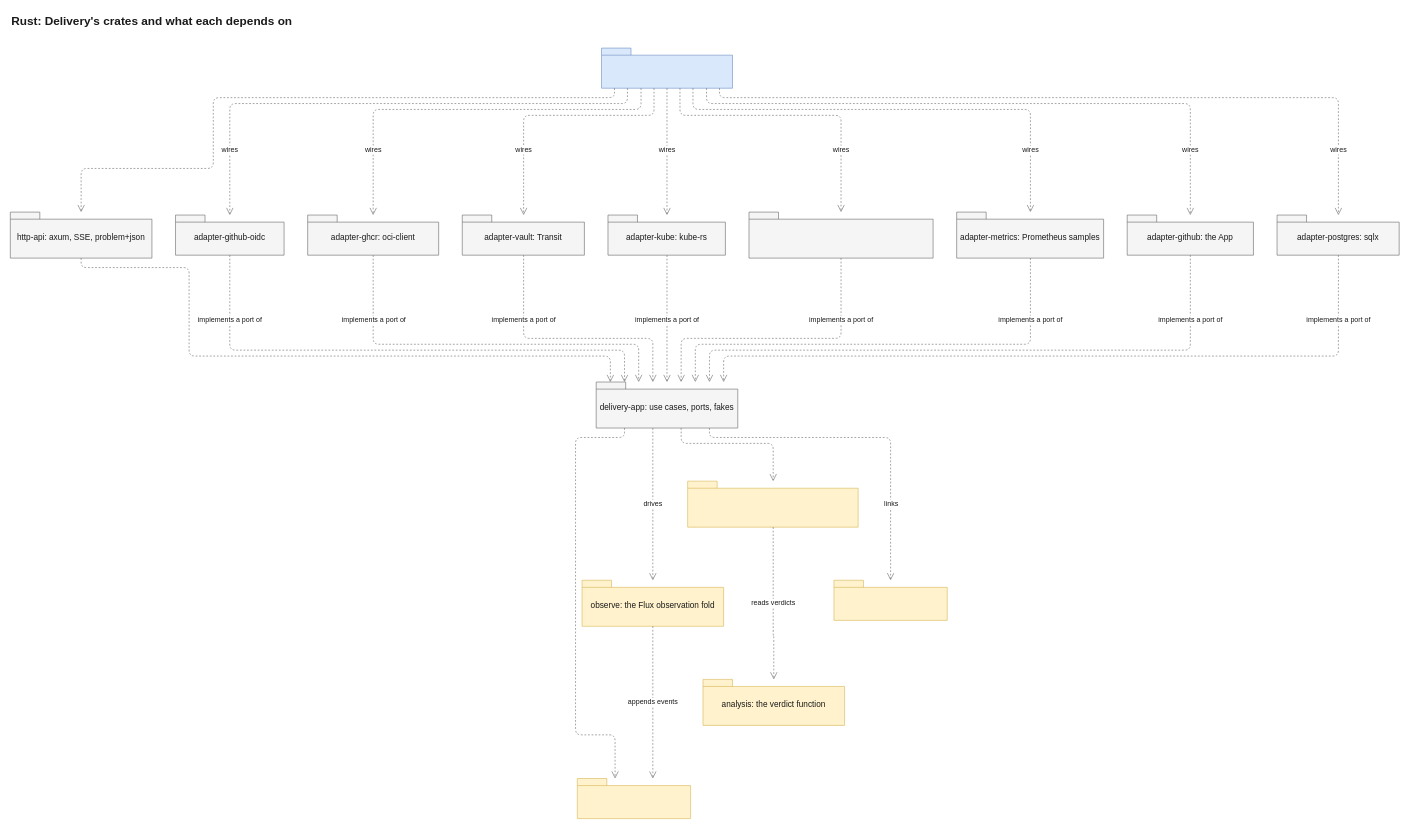
The diagram is 1410 pixels wide and 829 high, and some of its shapes have lost their labels. The box of each missing label's shape, as (x1, y1, x2, y2) in pixels:
adapter-flux-watch: read-only watches, Receiver: (748, 212, 933, 258)
bins/estate-kit-delivery: (601, 47, 732, 88)
compiler (use cases): (833, 580, 947, 620)
release-gate: verdicts into Flagger's answers: (687, 481, 858, 527)
rollout: the decider: (577, 778, 691, 819)
